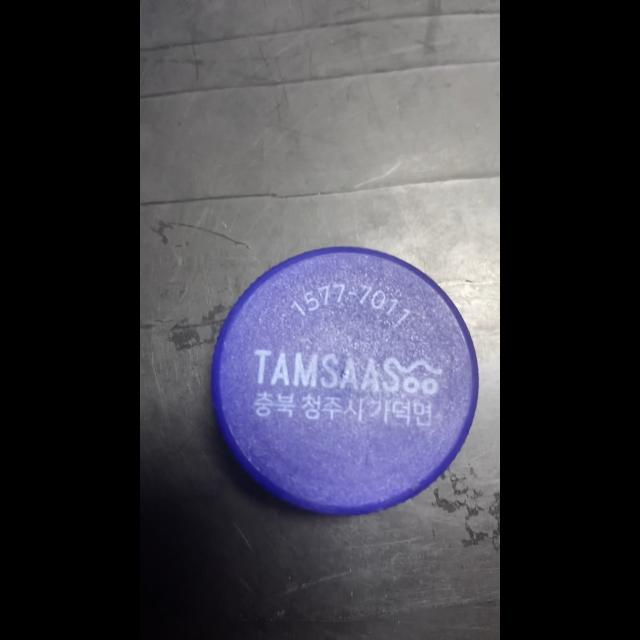plastic_bottle_cap: (202, 240, 484, 518)
